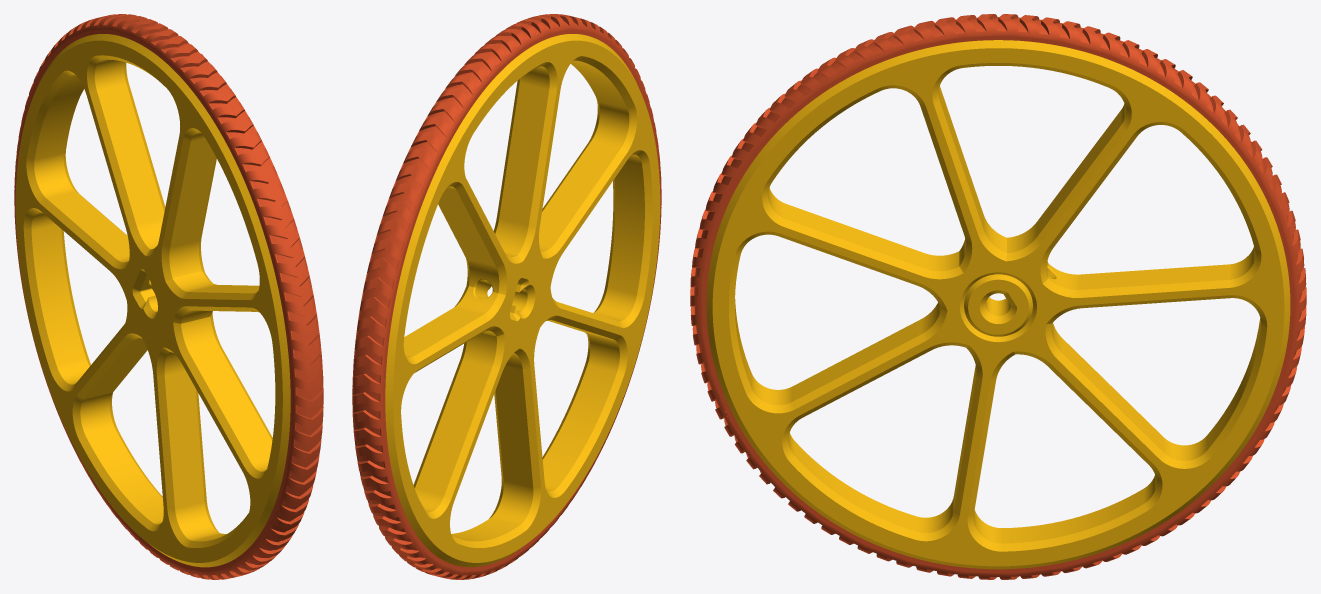
File: robobot_v9_wheel.dae
The picture shows the model from 3 angles, left to right: view 1: azimuth 30°, elevation 25°; view 2: azimuth 150°, elevation 25°; view 3: azimuth 270°, elevation 25°; orthographic projection. The views are drawn at different scales.
Parts seen in each view (by area): view 1: main-rim, main-tire; view 2: main-rim, main-tire; view 3: main-rim, main-tire.
Boxes of the visible parts, x1,y1,x2,y2 form: main-rim: [15, 34, 290, 567]; main-tire: [14, 14, 323, 579]; main-rim: [385, 34, 660, 567]; main-tire: [352, 14, 661, 579]; main-rim: [706, 40, 1290, 569]; main-tire: [690, 14, 1306, 579].
Size of the model in its own units: 0.012 by 0.152 by 0.152.
